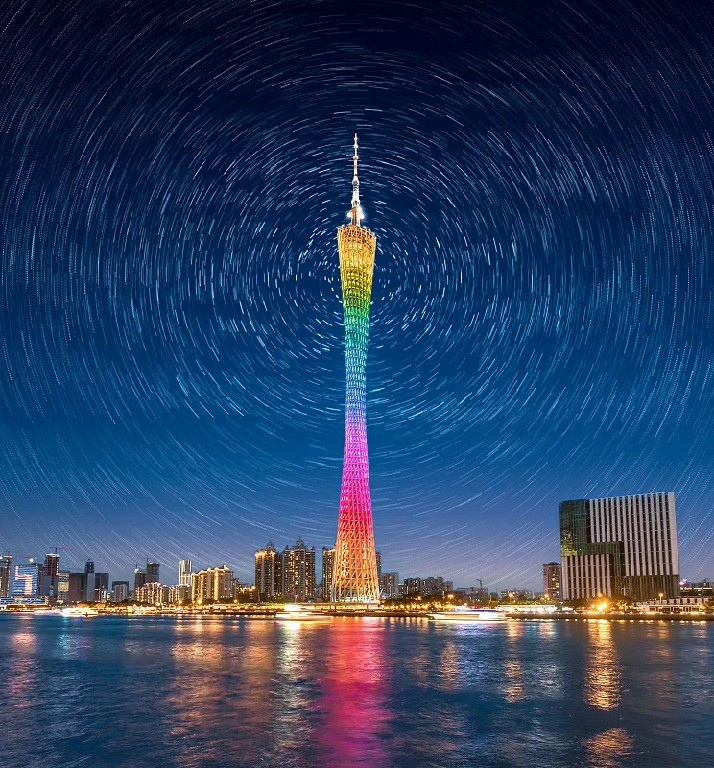Canton: (324, 131, 389, 605)
